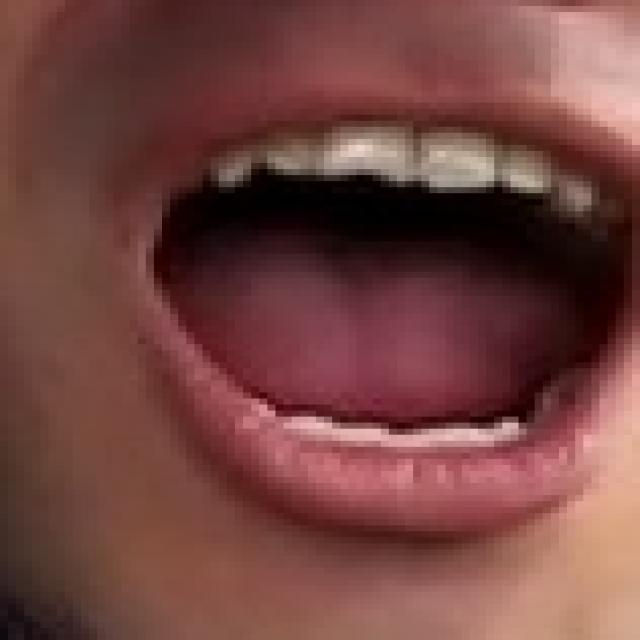open-mouth: (130, 85, 632, 538)
